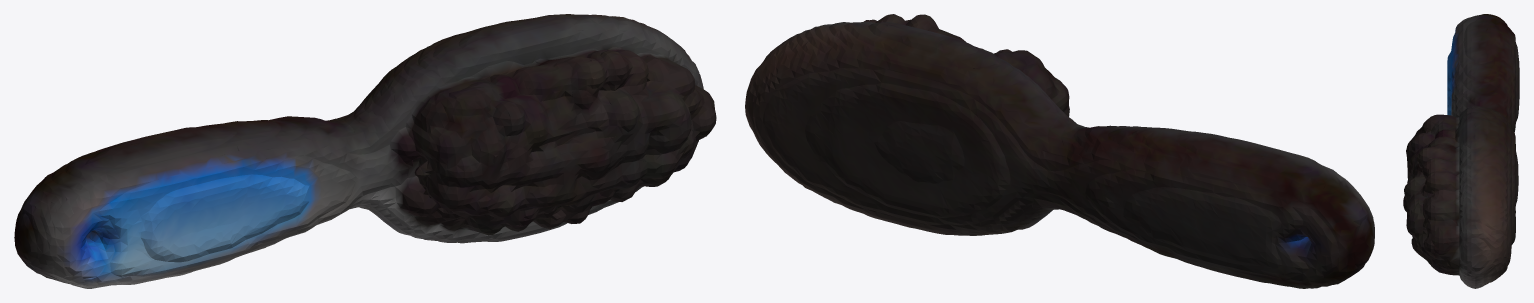
Rendered from pet_brush_2.glb.
The picture shows the model from 3 angles, left to right: view 1: azimuth 30°, elevation 25°; view 2: azimuth 150°, elevation 25°; view 3: azimuth 270°, elevation 25°; orthographic projection. The views are drawn at different scales.
Visible parts, largest first — view 1: geometry_0; view 2: geometry_0; view 3: geometry_0.
Boxes of the visible parts, box(x1,y1,x2,y2) form: geometry_0: box(14, 14, 716, 288); geometry_0: box(745, 14, 1374, 288); geometry_0: box(1403, 14, 1519, 288).
Size of the model in its own units: 1 by 0.2966 by 0.2305.
